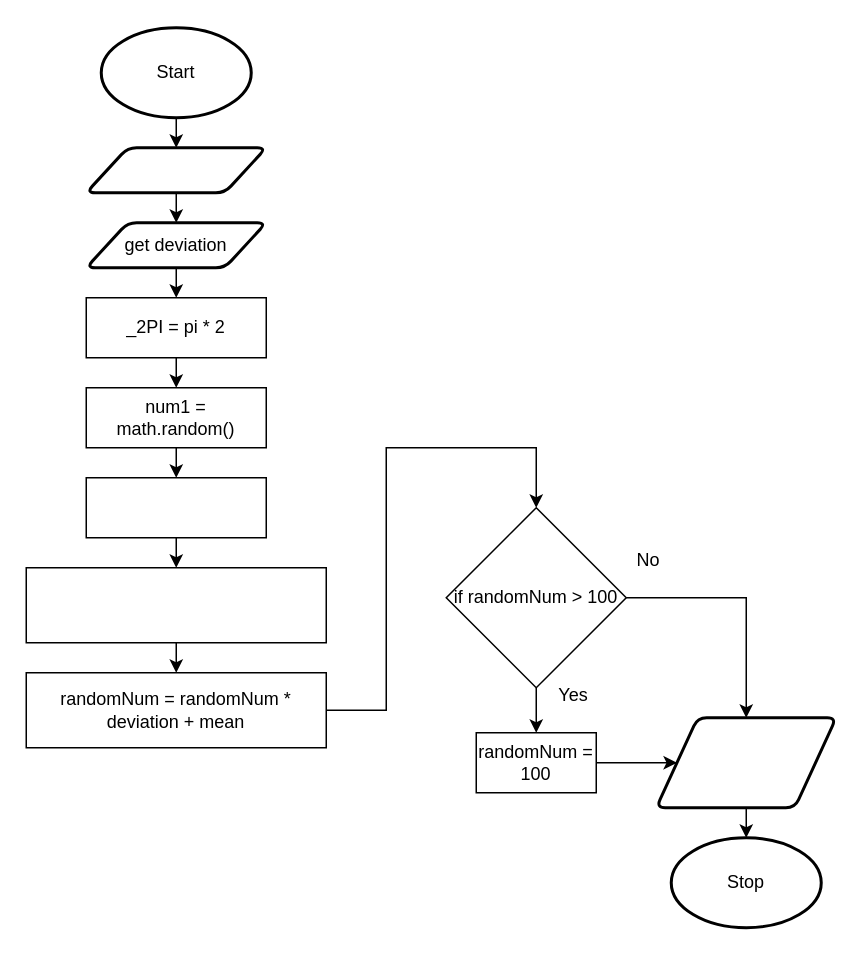
The diagram is 864 pixels wide and 954 high, and some of its shapes have lost their labels. The shapes that lost their labels are listed below. From the top down, each one's centre as x and y in pixels, then its label:
the point at 175,170: get mean
the point at 175,507: num2 = math.random()
the point at 175,604: randomNum = squareRoot(-2.0 * Math.log(num1)) * Math.cos(_2PI * num2)
the point at 745,762: return length
